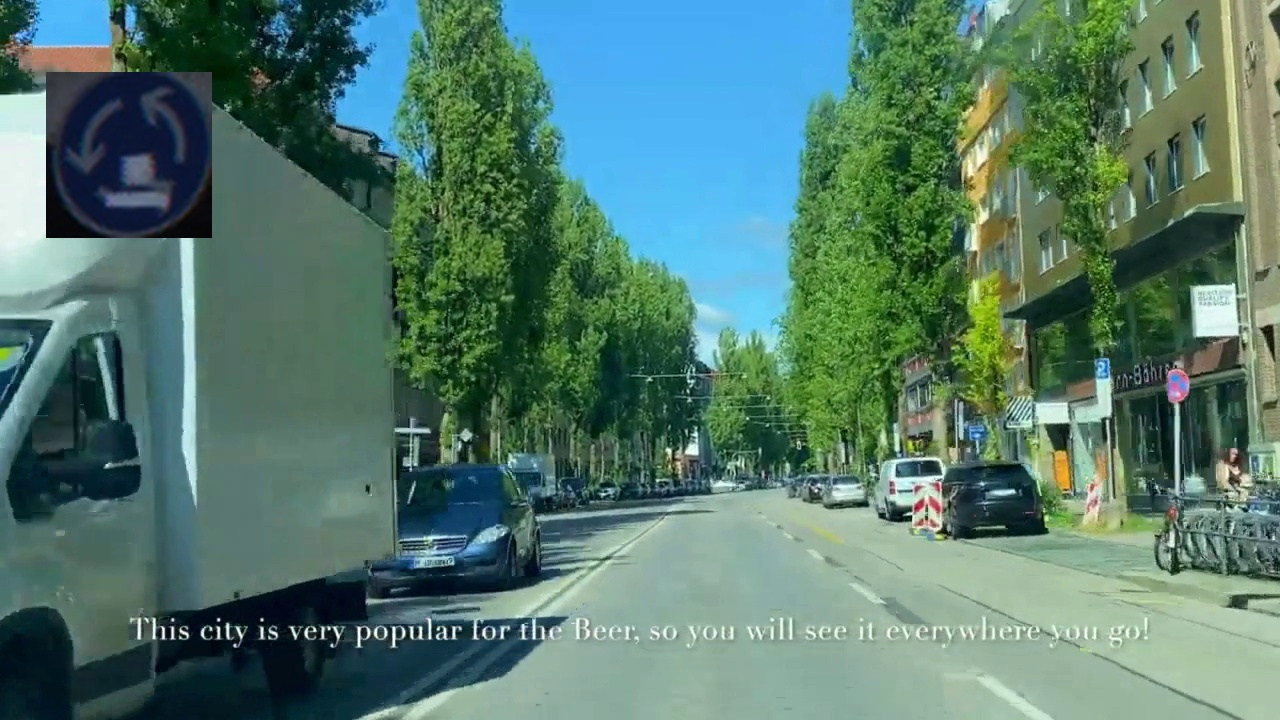Roundabout: (46, 72, 212, 238)
